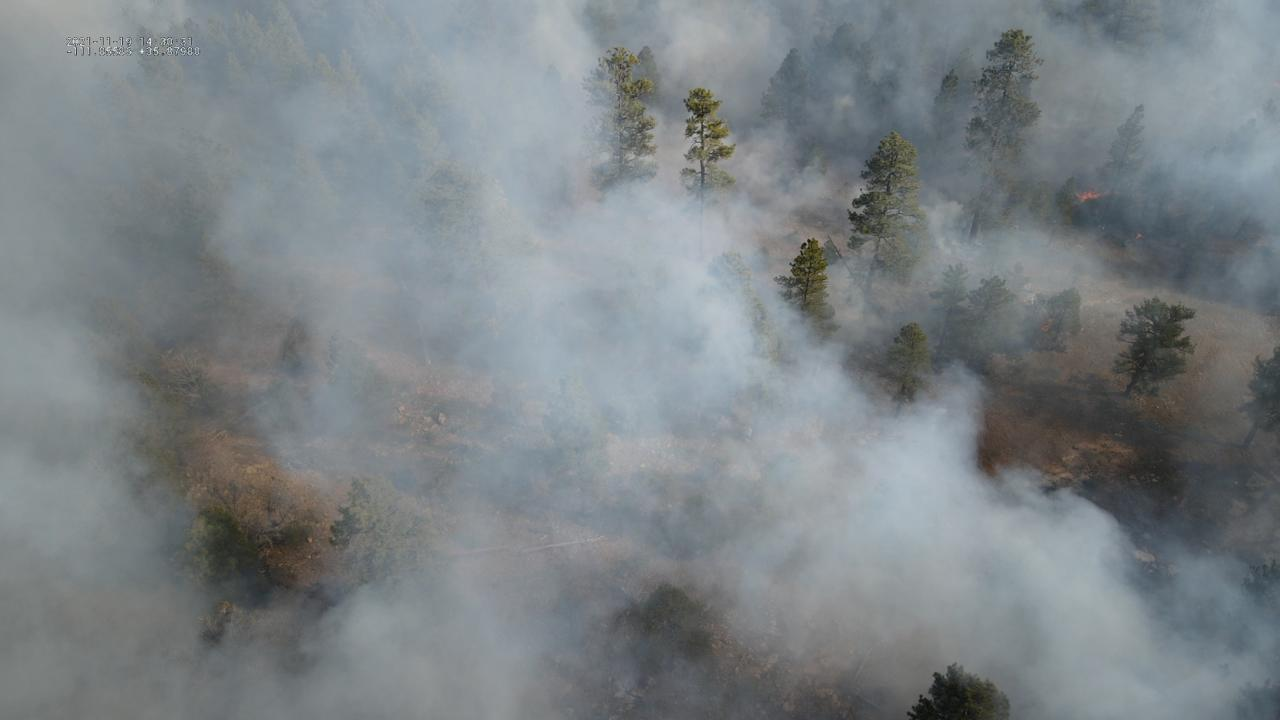fire: (1074, 189, 1106, 204), (1133, 232, 1147, 240)
smoke: (0, 0, 1280, 720)
